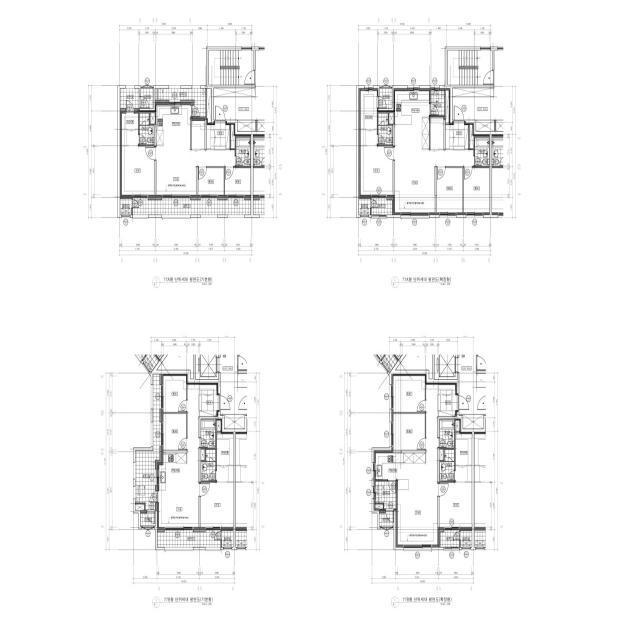space_balconi: (135, 374, 161, 510), (133, 198, 251, 215), (155, 89, 206, 117), (157, 530, 221, 547), (159, 453, 187, 490), (376, 481, 396, 509), (120, 88, 139, 111), (372, 198, 392, 215), (431, 91, 445, 115), (440, 530, 459, 547)
space_bedroom: (120, 146, 154, 197), (361, 146, 393, 195), (439, 483, 472, 530), (201, 482, 233, 529), (393, 414, 425, 450), (393, 376, 425, 412), (437, 168, 463, 212), (464, 168, 489, 212), (161, 374, 186, 412), (162, 414, 186, 450), (198, 168, 224, 197), (225, 168, 251, 197)
space_dressroom: (361, 91, 377, 146), (455, 432, 472, 481), (120, 111, 138, 145), (217, 432, 233, 465), (217, 466, 233, 481)
space_elevator: (434, 354, 457, 379), (196, 354, 218, 379)
space_elevator_hall: (459, 354, 476, 414), (220, 355, 237, 414), (214, 97, 256, 120), (453, 97, 494, 120)
space_front: (207, 121, 230, 150), (453, 121, 469, 150), (438, 393, 458, 416), (199, 393, 219, 416)
space_kitchen: (395, 91, 429, 150), (374, 446, 426, 480), (156, 103, 190, 150)
space_living_room: (396, 384, 439, 547), (157, 383, 199, 529), (395, 150, 474, 213), (156, 150, 235, 197)
space_other: (190, 118, 205, 150), (430, 117, 443, 149), (459, 415, 486, 429), (220, 415, 247, 429), (453, 88, 494, 97), (214, 88, 255, 97), (379, 89, 392, 108), (141, 88, 153, 108), (379, 510, 394, 526), (237, 120, 255, 131), (476, 120, 494, 131), (141, 513, 155, 526), (439, 383, 457, 393), (200, 383, 218, 393), (446, 125, 452, 149), (207, 88, 211, 123), (446, 90, 449, 123), (470, 125, 474, 148), (231, 125, 235, 148), (455, 419, 461, 431), (217, 419, 222, 431), (150, 113, 155, 124), (389, 113, 394, 124), (374, 504, 383, 510), (135, 504, 144, 510), (201, 449, 205, 460), (440, 449, 443, 460)
space_outdoor_room: (120, 199, 131, 215), (359, 199, 370, 215), (461, 531, 472, 547), (222, 531, 233, 547)
space_staircase: (448, 50, 492, 85), (209, 50, 253, 85)
space_toilet: (139, 113, 154, 145), (201, 449, 216, 481), (378, 113, 393, 145), (440, 449, 454, 481), (236, 137, 251, 166), (201, 419, 216, 448), (440, 419, 454, 448), (475, 137, 489, 166)
